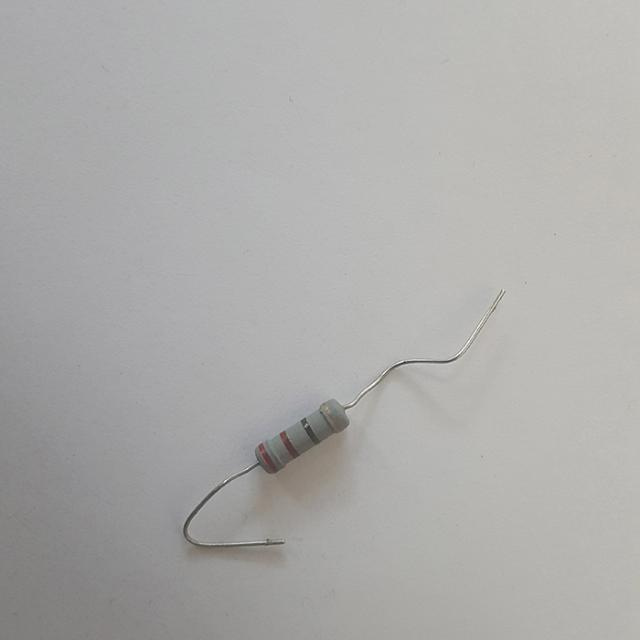brown: (303, 418, 320, 443)
gold: (320, 403, 340, 432)
red: (258, 443, 279, 472), (280, 430, 300, 456)
resistor: (231, 378, 368, 495)
